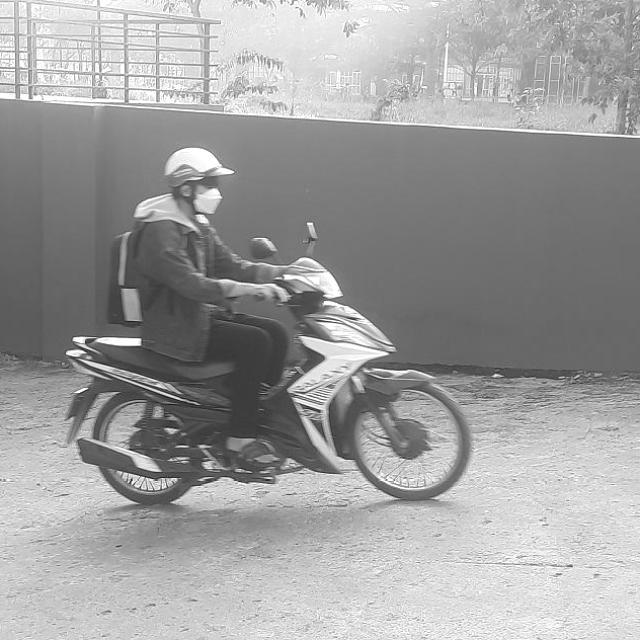Helmet: (163, 147, 242, 222)
